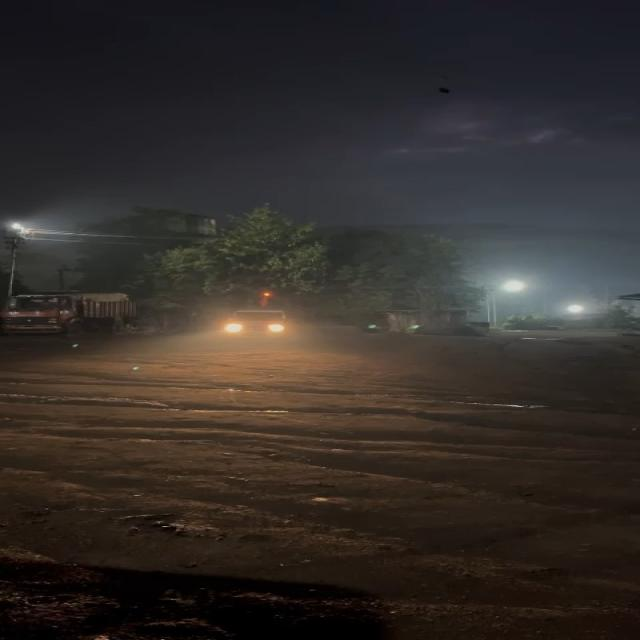light_vehicle: (217, 308, 292, 340)
